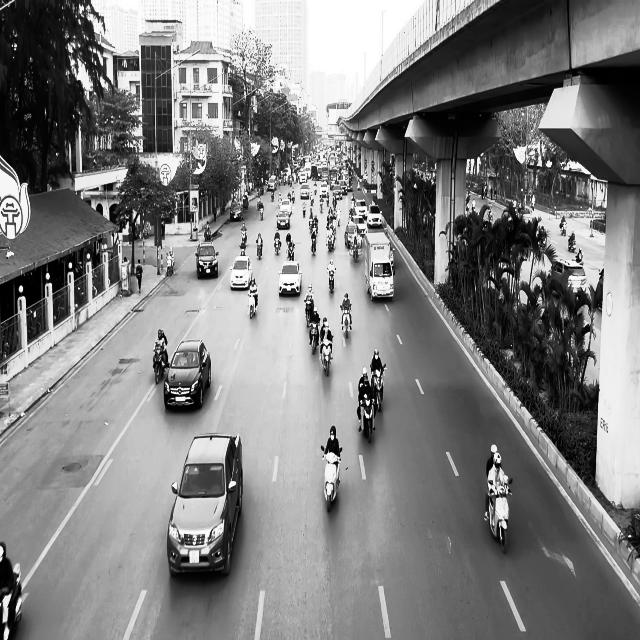car: (167, 433, 243, 577), (164, 339, 212, 410), (550, 259, 586, 300), (278, 260, 302, 295), (195, 243, 218, 278), (230, 255, 252, 290), (230, 202, 243, 220)
motorbike: (487, 478, 512, 553), (0, 562, 22, 638), (320, 444, 342, 512), (358, 394, 376, 443), (370, 364, 386, 411), (152, 346, 168, 384), (320, 335, 333, 376), (307, 320, 320, 354), (340, 304, 352, 338), (248, 290, 258, 318), (326, 266, 336, 292), (305, 300, 313, 326), (166, 254, 174, 276), (274, 235, 281, 254)
truck: (362, 231, 395, 301)
